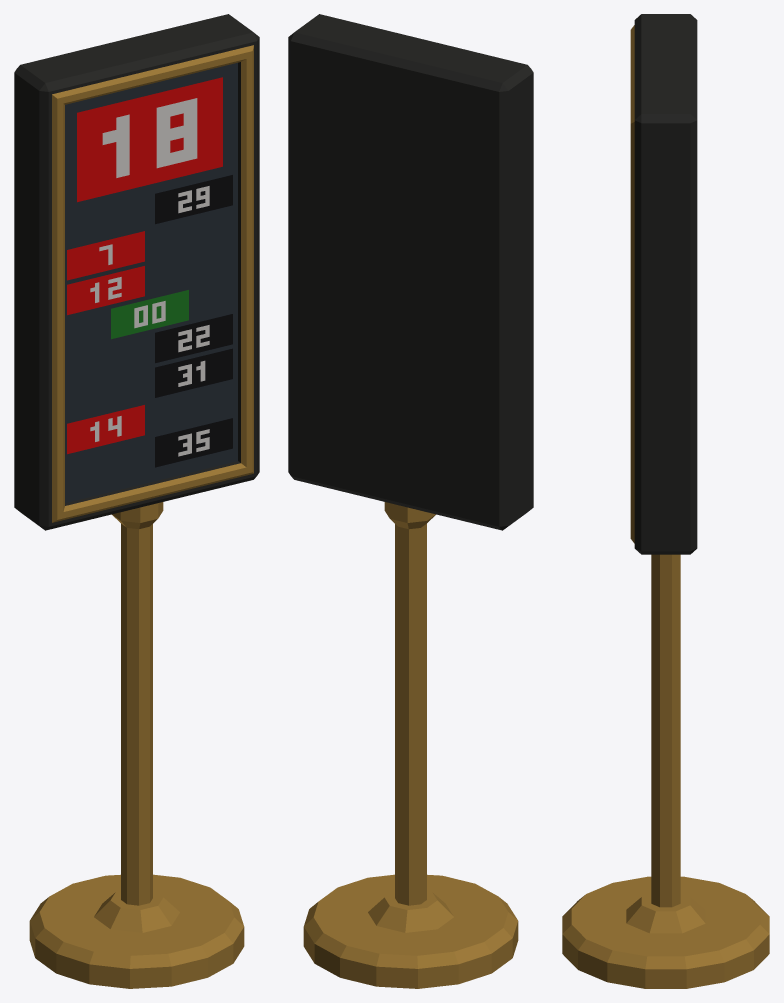
The model's file is roulette-results-tower-feff84.glb.
3 renders of one model, left to right at view 1: azimuth 30°, elevation 25°; view 2: azimuth 150°, elevation 25°; view 3: azimuth 270°, elevation 25°, orthographic.
Parts seen in each view (by area): view 1: results-tower; view 2: results-tower; view 3: results-tower.
Boxes of the visible parts, box(x1,y1,x2,y2) form: results-tower: box(14, 14, 259, 988); results-tower: box(288, 14, 533, 988); results-tower: box(562, 14, 769, 988).
Bounding box in the file's own units: 0.438 × 1.7 × 0.3629.
